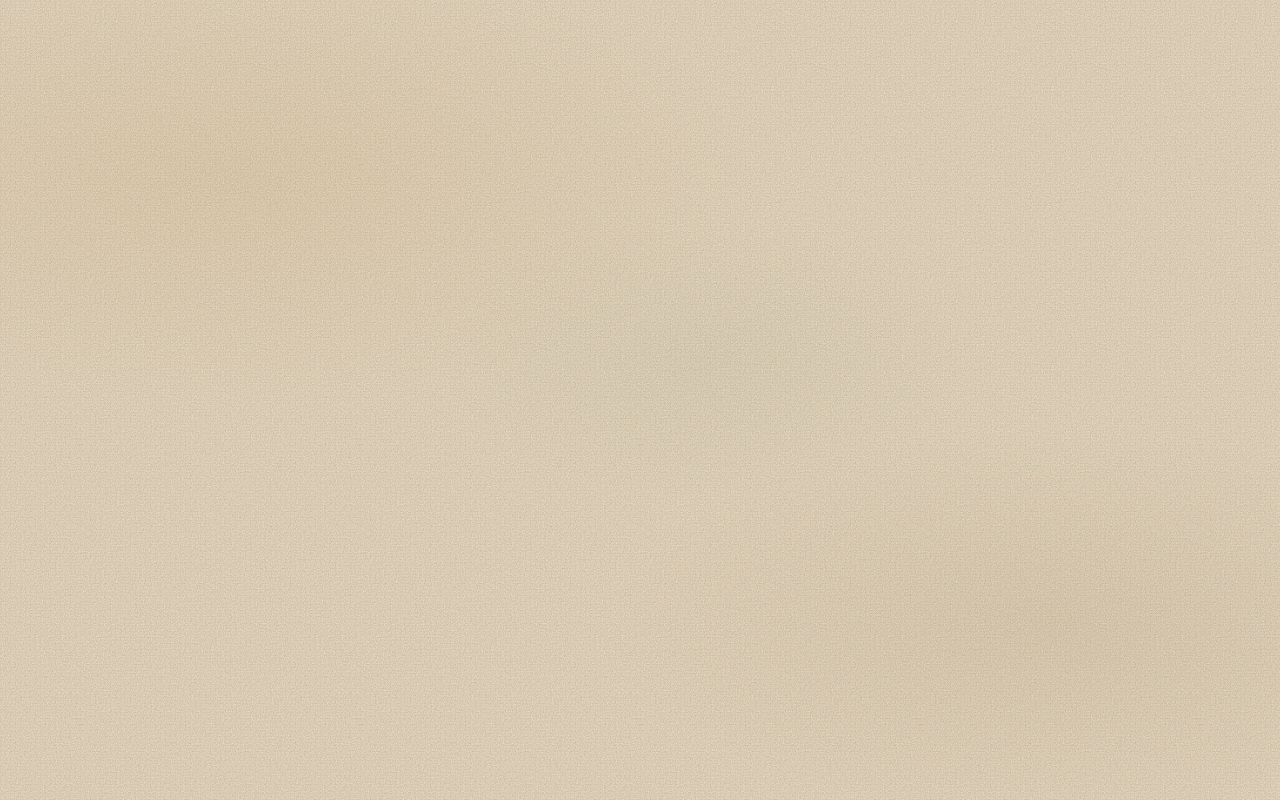
Test: CommandPalette › search filtering › filters items as user types
This screenshot has width=1280, height=800.
Press k
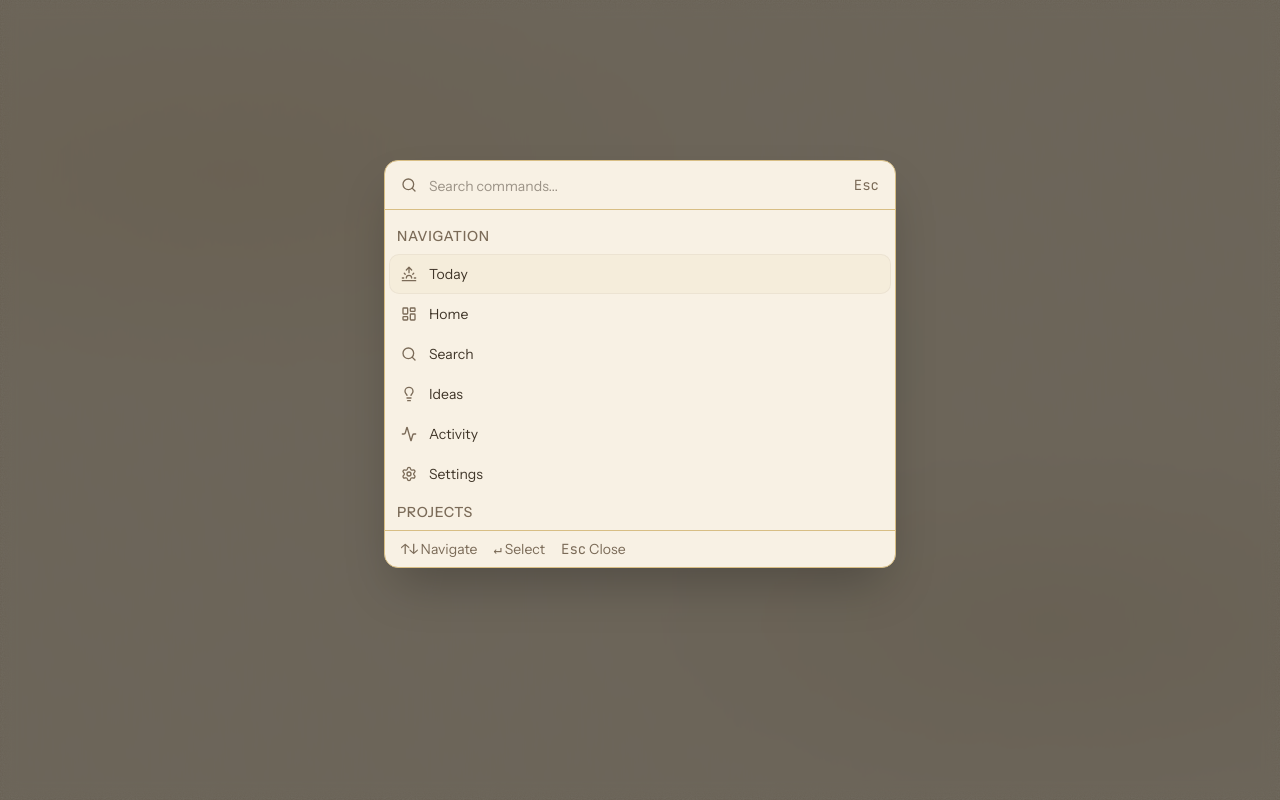
Type "alpha" into the dropdown at (635, 185), box [429,173,842,197]
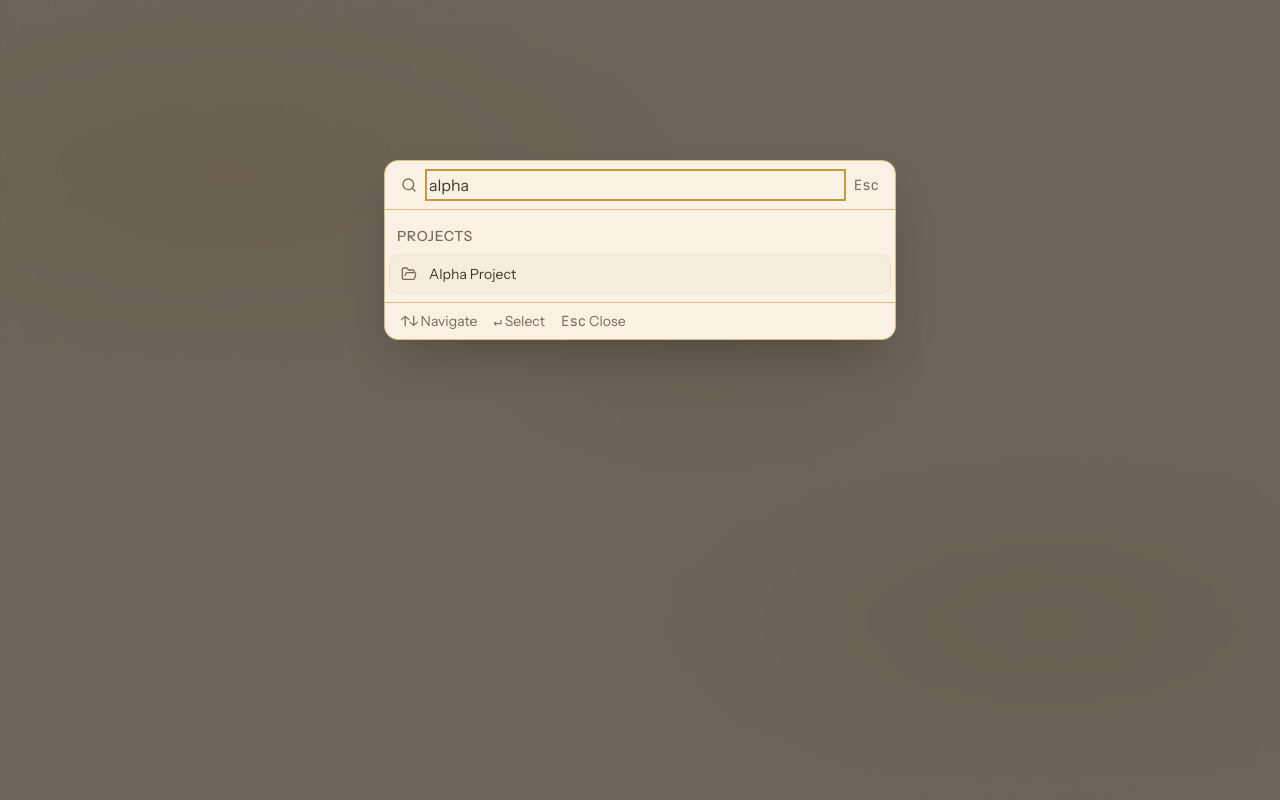
Expected: the text "Beta Project" is not shown
Expected: the text "Alpha Project" is shown, [429,265,516,283]
